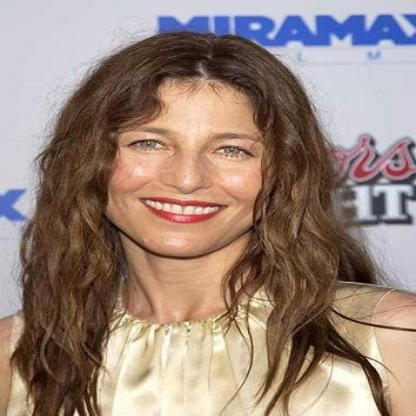long-hair: (1, 260, 353, 318)
